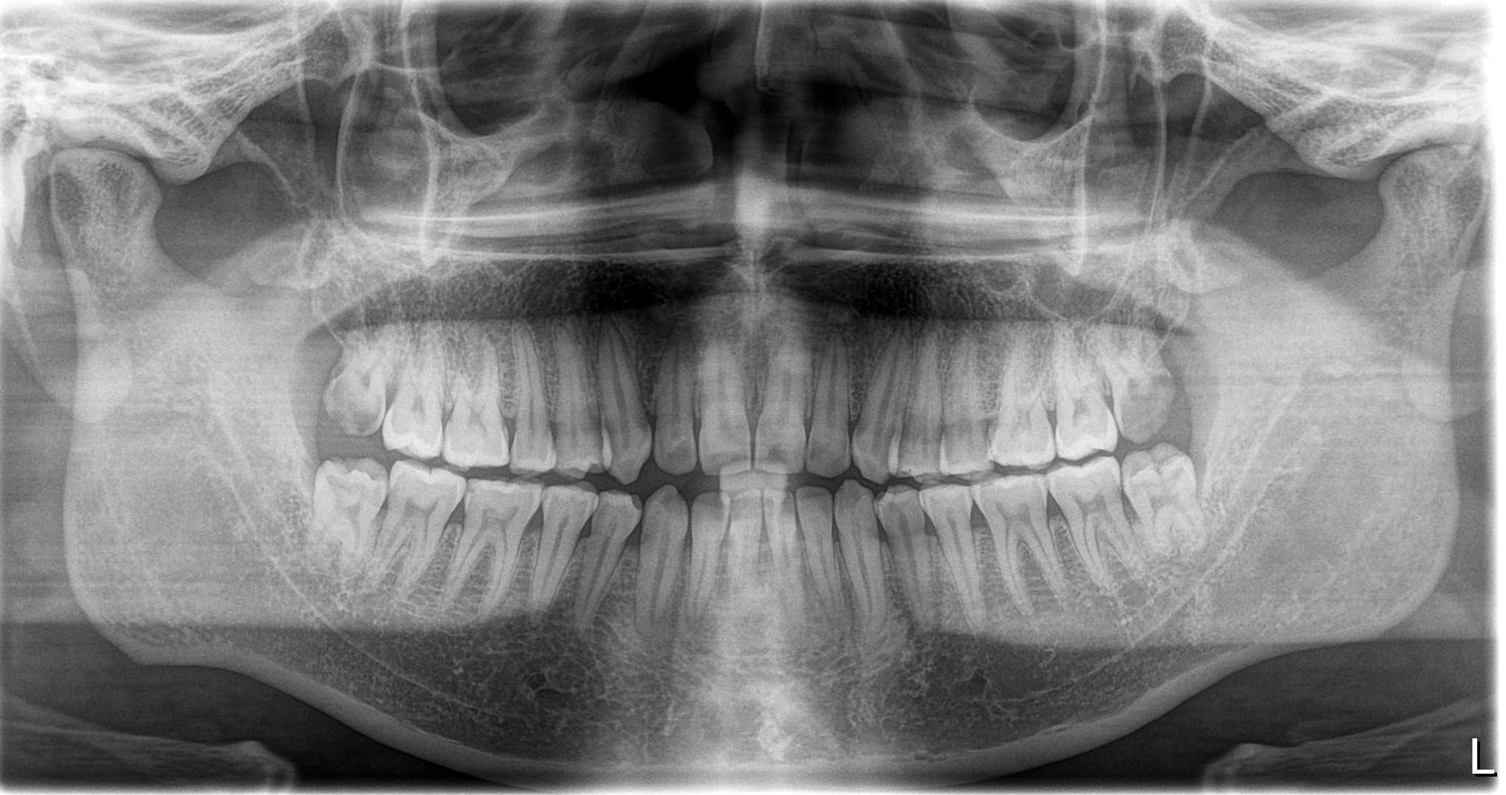Dental Caries: (1141, 490, 1198, 532), (318, 477, 372, 518)
